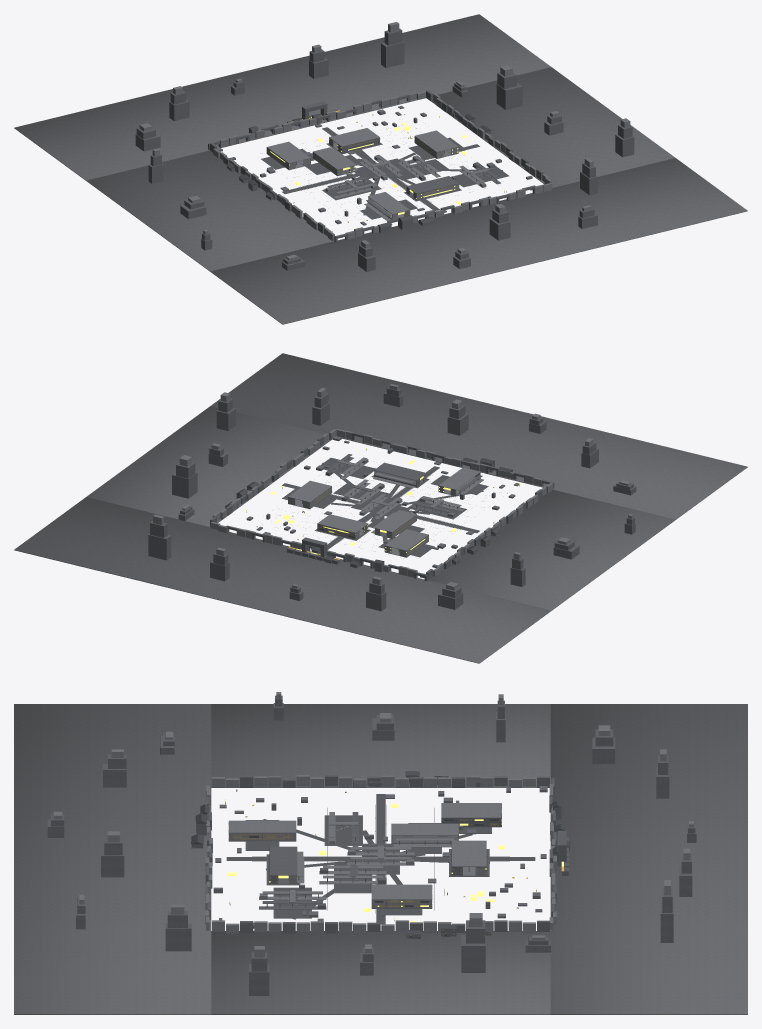
3 renders of one model, top to bottom at view 1: azimuth 30°, elevation 25°; view 2: azimuth 150°, elevation 25°; view 3: azimuth 270°, elevation 25°, orthographic. The views are drawn at different scales.
Visible parts, largest first — view 1: HB_z08_LOD1_terrain, HB_z08_LOD1_wall_alt, HB_z08_LOD1_wall, HB_z08_LOD1_road, HB_z08_LOD1_obstacle, HB_z08_LOD1_trim; view 2: HB_z08_LOD1_terrain, HB_z08_LOD1_wall_alt, HB_z08_LOD1_wall, HB_z08_LOD1_road, HB_z08_LOD1_obstacle, HB_z08_LOD1_trim; view 3: HB_z08_LOD1_terrain, HB_z08_LOD1_wall_alt, HB_z08_LOD1_wall, HB_z08_LOD1_road, HB_z08_LOD1_obstacle, HB_z08_LOD1_trim, HB_z08_LOD1_glass.
Boxes of the visible parts, x1,y1,x2,y2 form: HB_z08_LOD1_terrain: (14, 14, 747, 324); HB_z08_LOD1_wall_alt: (135, 28, 634, 271); HB_z08_LOD1_wall: (139, 22, 630, 260); HB_z08_LOD1_road: (262, 127, 507, 218); HB_z08_LOD1_obstacle: (217, 105, 532, 225); HB_z08_LOD1_trim: (226, 108, 506, 227); HB_z08_LOD1_terrain: (14, 353, 747, 663); HB_z08_LOD1_wall_alt: (148, 386, 636, 611); HB_z08_LOD1_wall: (153, 384, 633, 590); HB_z08_LOD1_road: (282, 458, 488, 556); HB_z08_LOD1_obstacle: (244, 436, 519, 578); HB_z08_LOD1_trim: (225, 449, 519, 565); HB_z08_LOD1_terrain: (14, 704, 747, 1014); HB_z08_LOD1_wall_alt: (47, 695, 696, 995); HB_z08_LOD1_wall: (53, 692, 693, 957); HB_z08_LOD1_road: (226, 794, 535, 924); HB_z08_LOD1_obstacle: (213, 786, 547, 928); HB_z08_LOD1_trim: (191, 771, 570, 938); HB_z08_LOD1_glass: (203, 809, 501, 936).
Bounding box in the file's own units: 632 × 52.9 × 632.
Materials: 9 (7 with a texture image).
